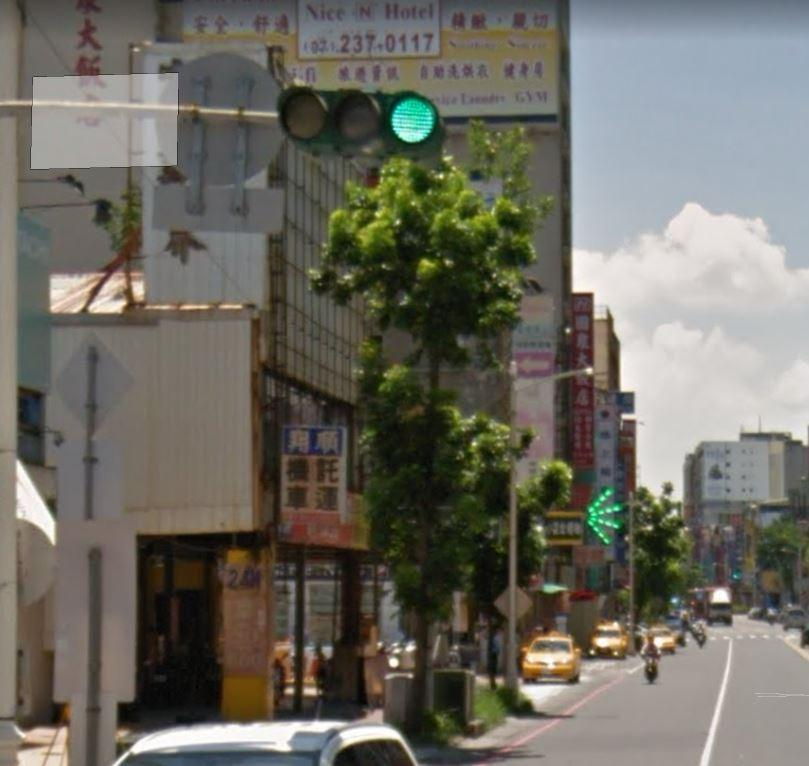green_traffic_light: (276, 86, 446, 153)
